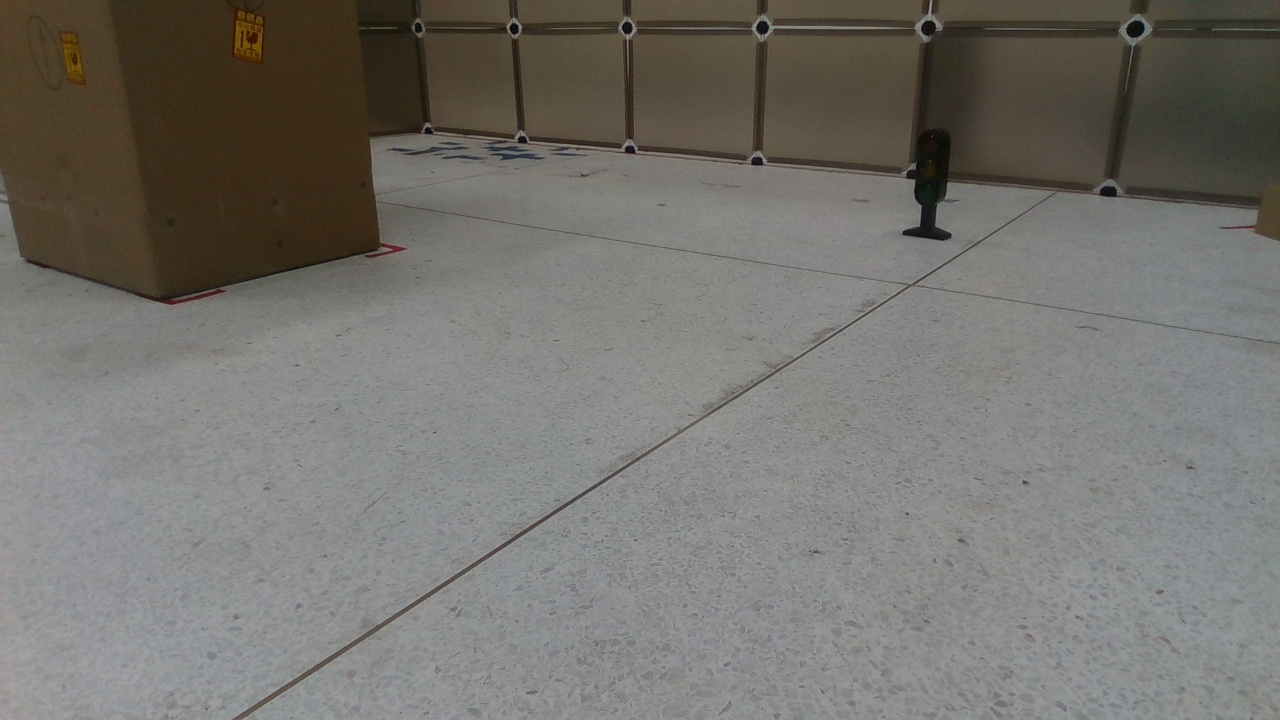Dim traffic light: (901, 128, 957, 244)
